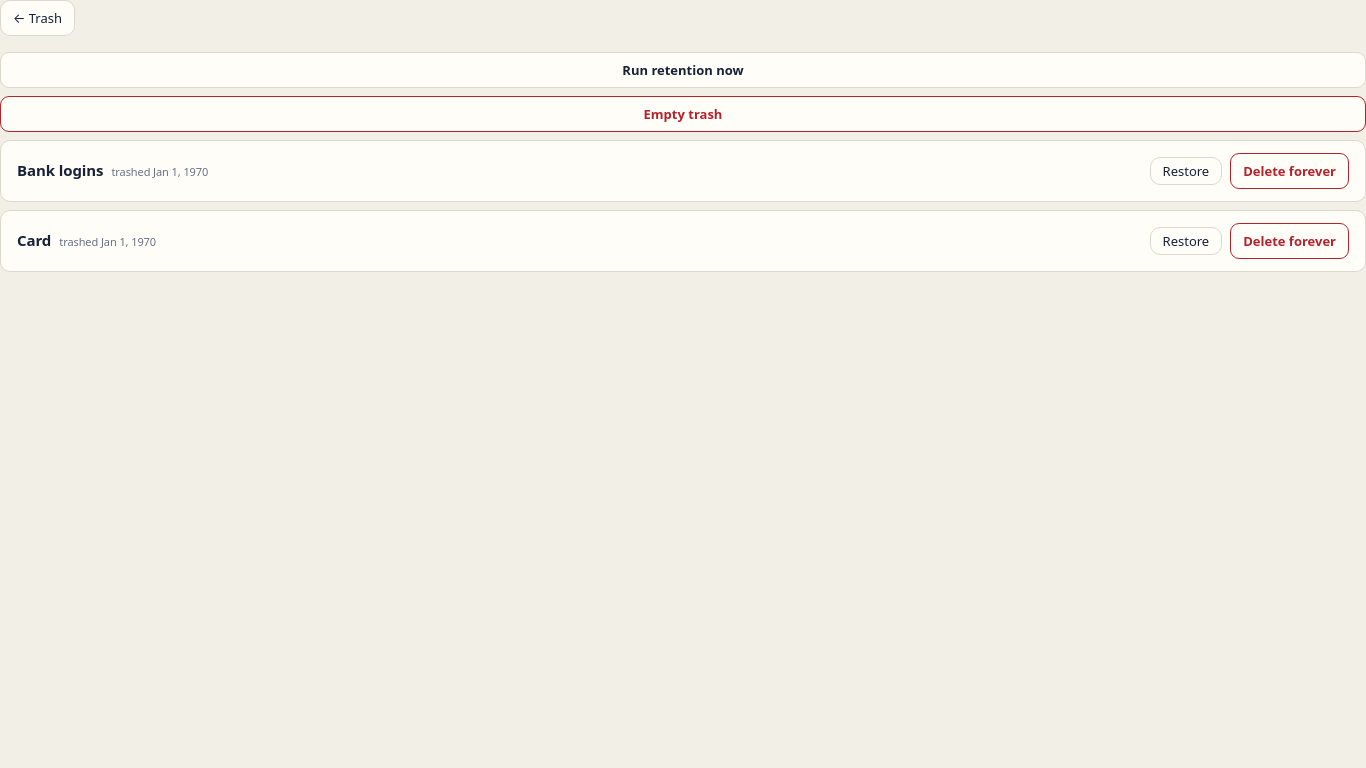
Scenario: TrashView › renders an assertive warning banner when some files could not be removed
The image size is (1366, 768).
Expected: the text "Bank logins" is shown, [17,160,104,180]
Click the button "Empty trash" at point(683, 114), box [0,96,1365,132]
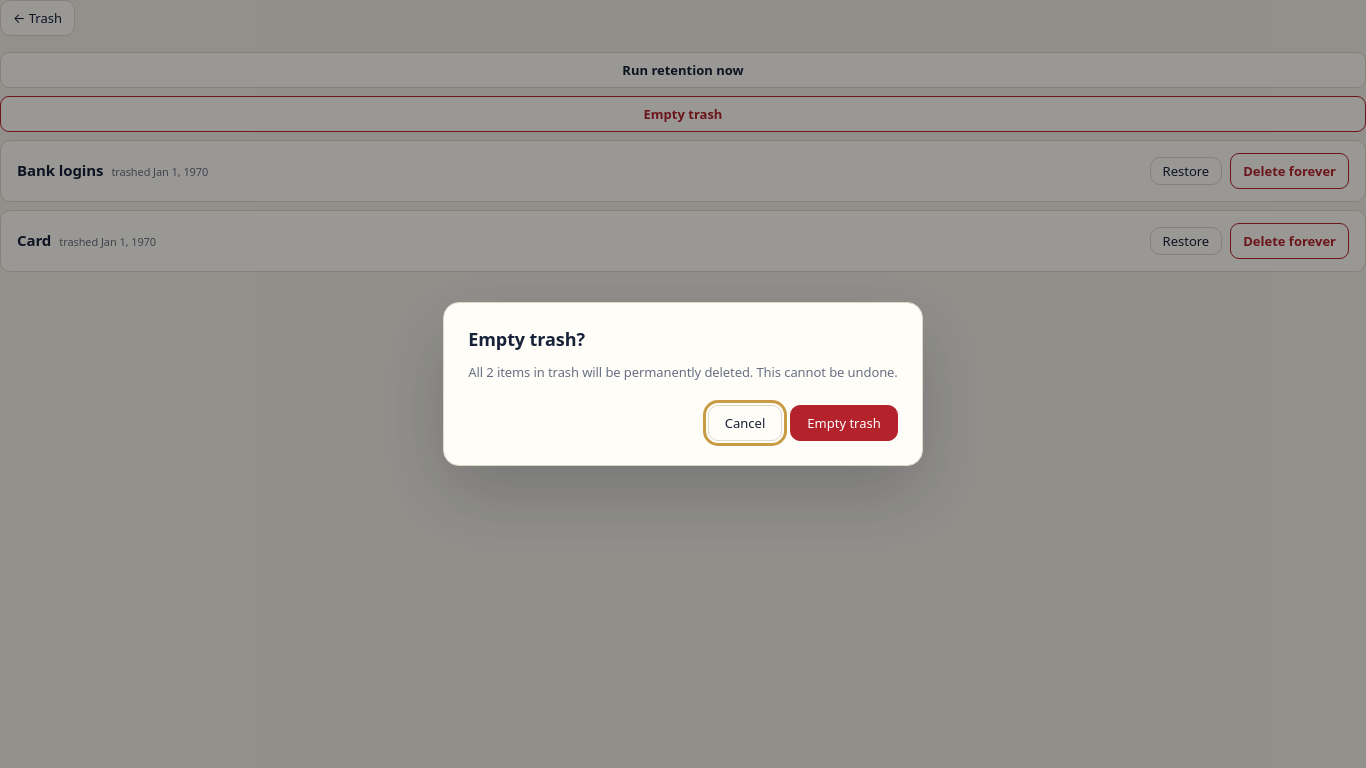
Click the button "Empty trash" at point(844, 423), box [790,405,898,441]
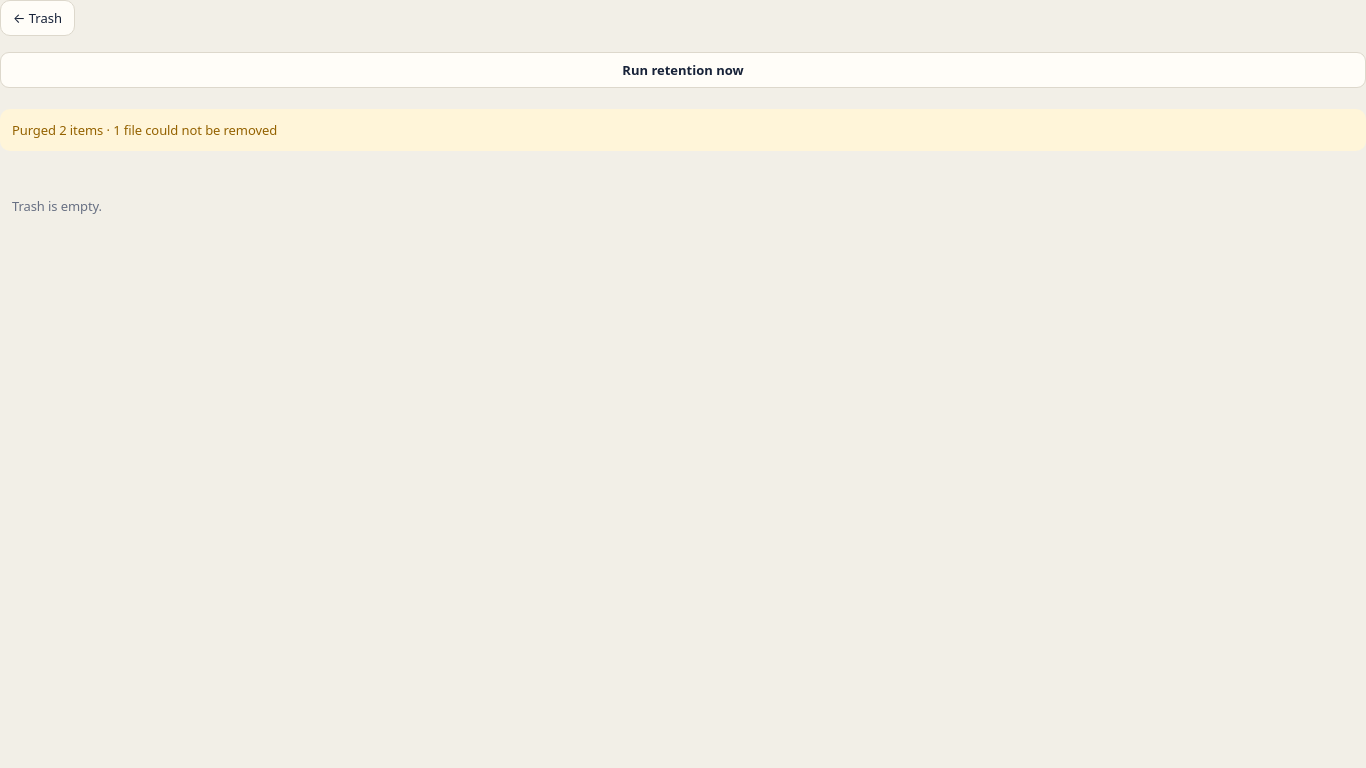
Result: the message reads "Purged 2 items · 1 file could not be removed" at [12,121,277,139]
